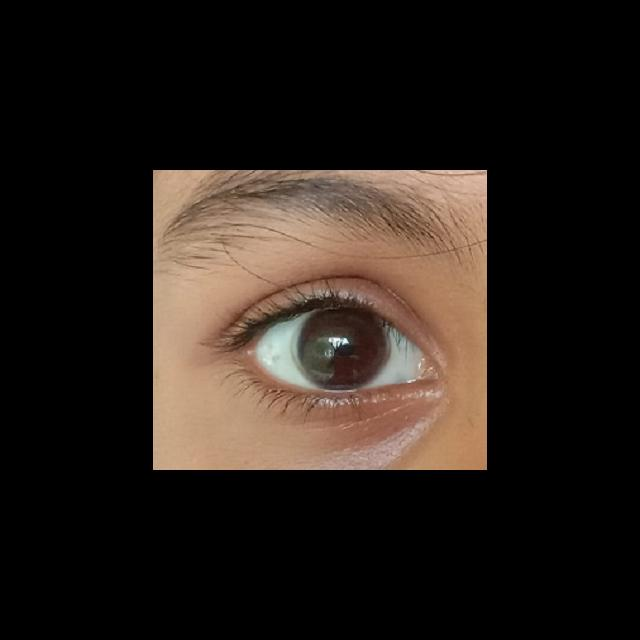eye: (248, 304, 423, 394)
iris: (296, 310, 388, 388)
